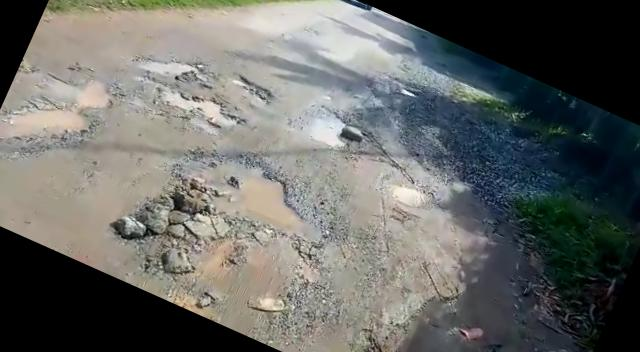pothole: (156, 126, 357, 268), (0, 77, 101, 170), (162, 79, 248, 135), (132, 39, 205, 90), (290, 100, 356, 154), (72, 70, 122, 116), (383, 176, 432, 214)
